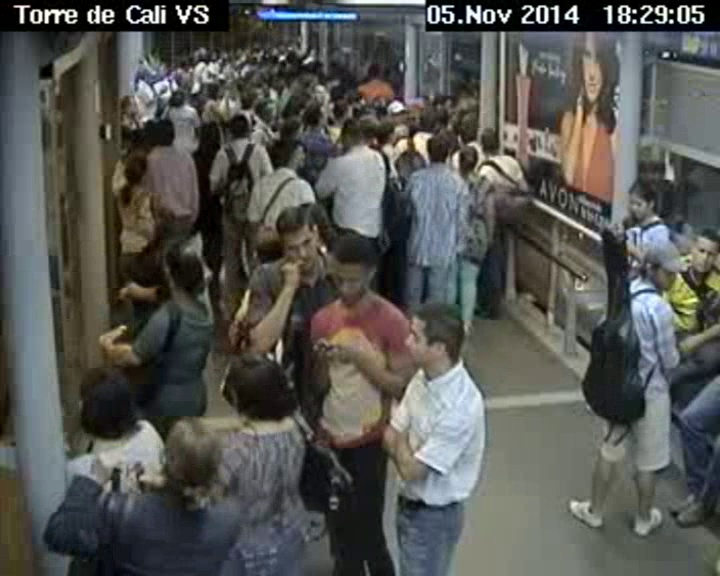person: (150, 414, 225, 499), (215, 347, 294, 423), (269, 192, 325, 283), (403, 302, 467, 372), (65, 371, 139, 430), (330, 231, 382, 309), (632, 236, 685, 298), (159, 245, 206, 303), (623, 176, 663, 223), (689, 224, 720, 276), (268, 137, 300, 173), (121, 151, 148, 186), (337, 116, 365, 149), (455, 143, 480, 175), (476, 127, 502, 155), (386, 100, 411, 127), (199, 115, 220, 146), (425, 138, 448, 165), (253, 96, 281, 118), (154, 118, 178, 143), (302, 105, 327, 128), (167, 84, 190, 108), (228, 111, 248, 138), (374, 117, 394, 144), (118, 94, 140, 117), (459, 119, 479, 144), (278, 117, 301, 136), (311, 83, 327, 107), (331, 98, 349, 119), (367, 63, 380, 79)
